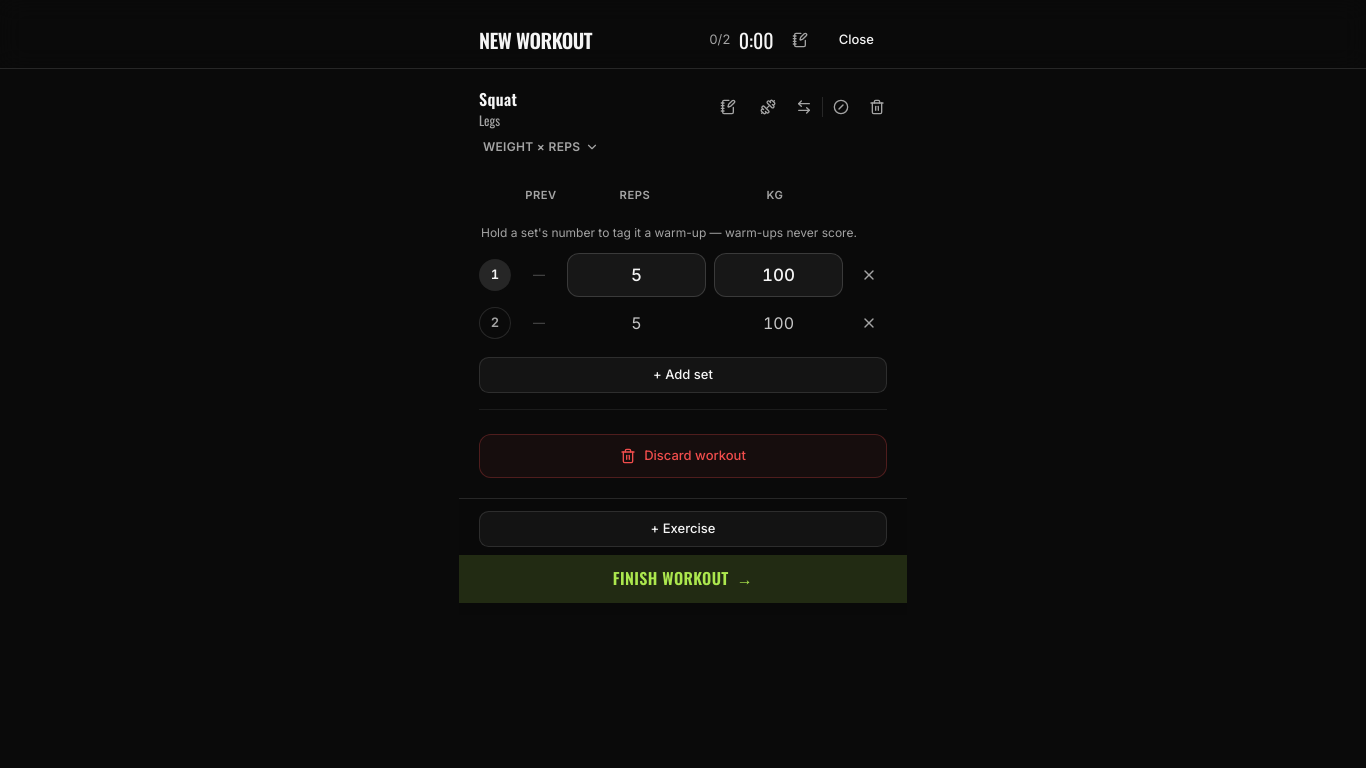
rest-over notification cancel wiring › a set check-off (the next set starting) retires the posted notification
Click the button named "Mark set 1 complete" at x=495, y=275, box left=479, top=259, right=511, bottom=291
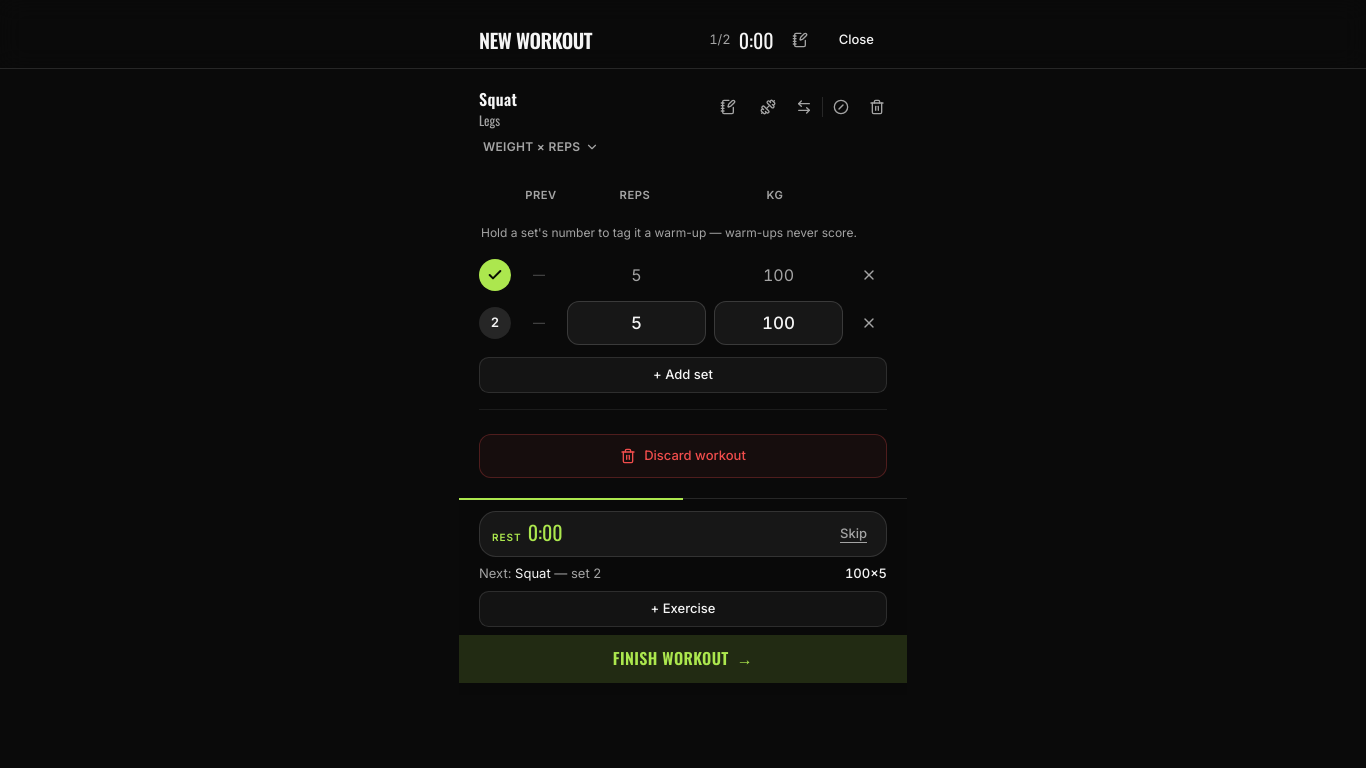
Result: the button with aria-label "Skip rest" is shown at left=827, top=516, right=880, bottom=552
